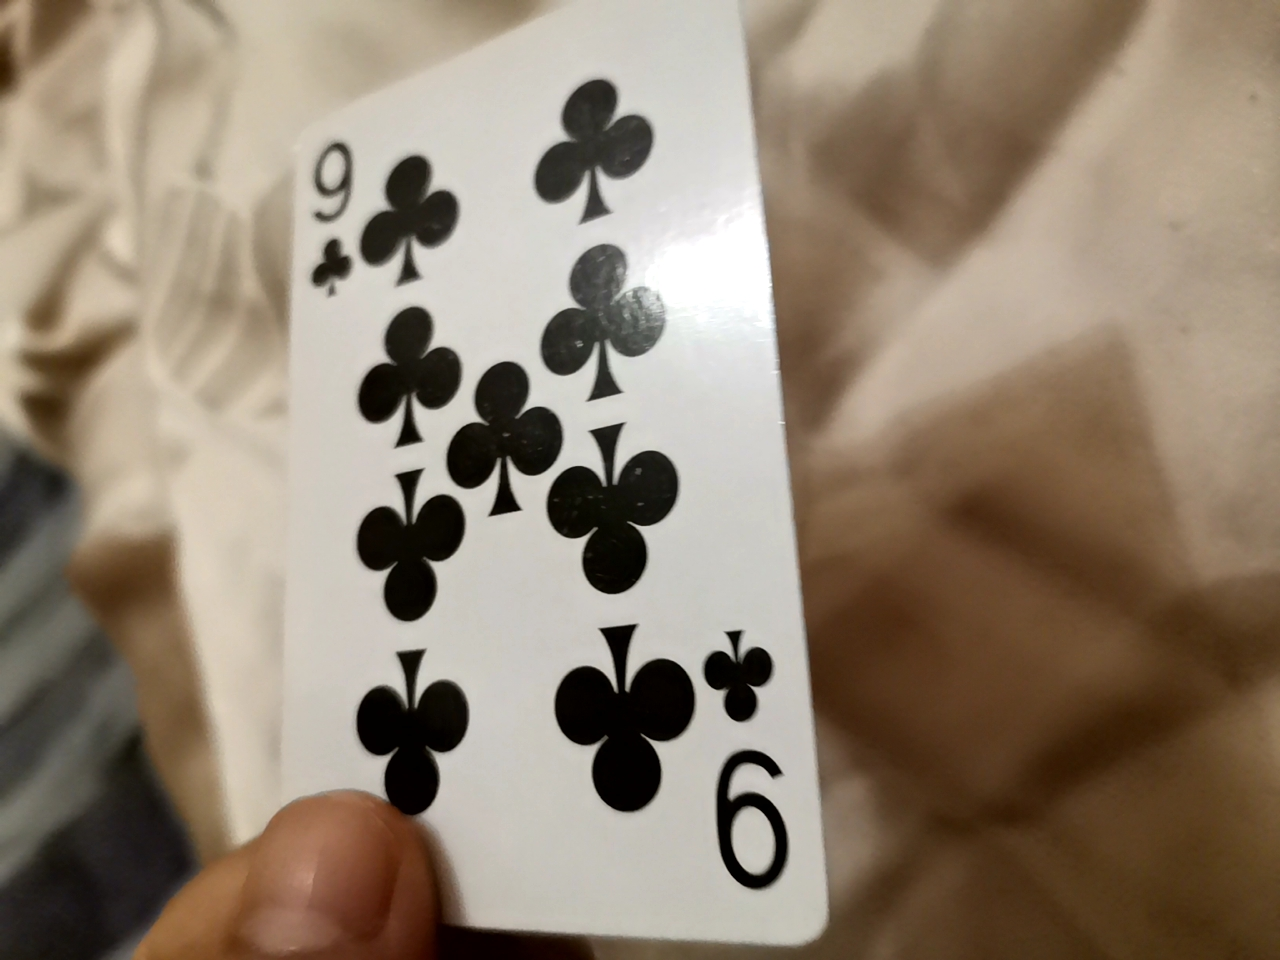mh 9: (265, 18, 833, 947)
